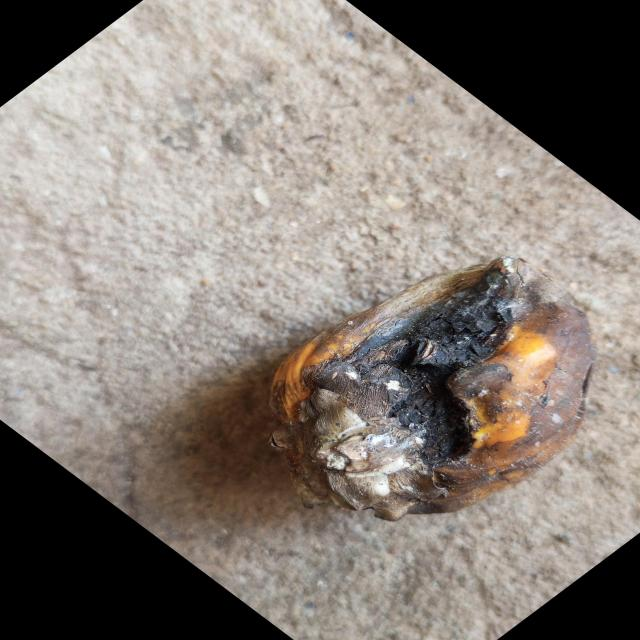damaged: (259, 257, 597, 523)
